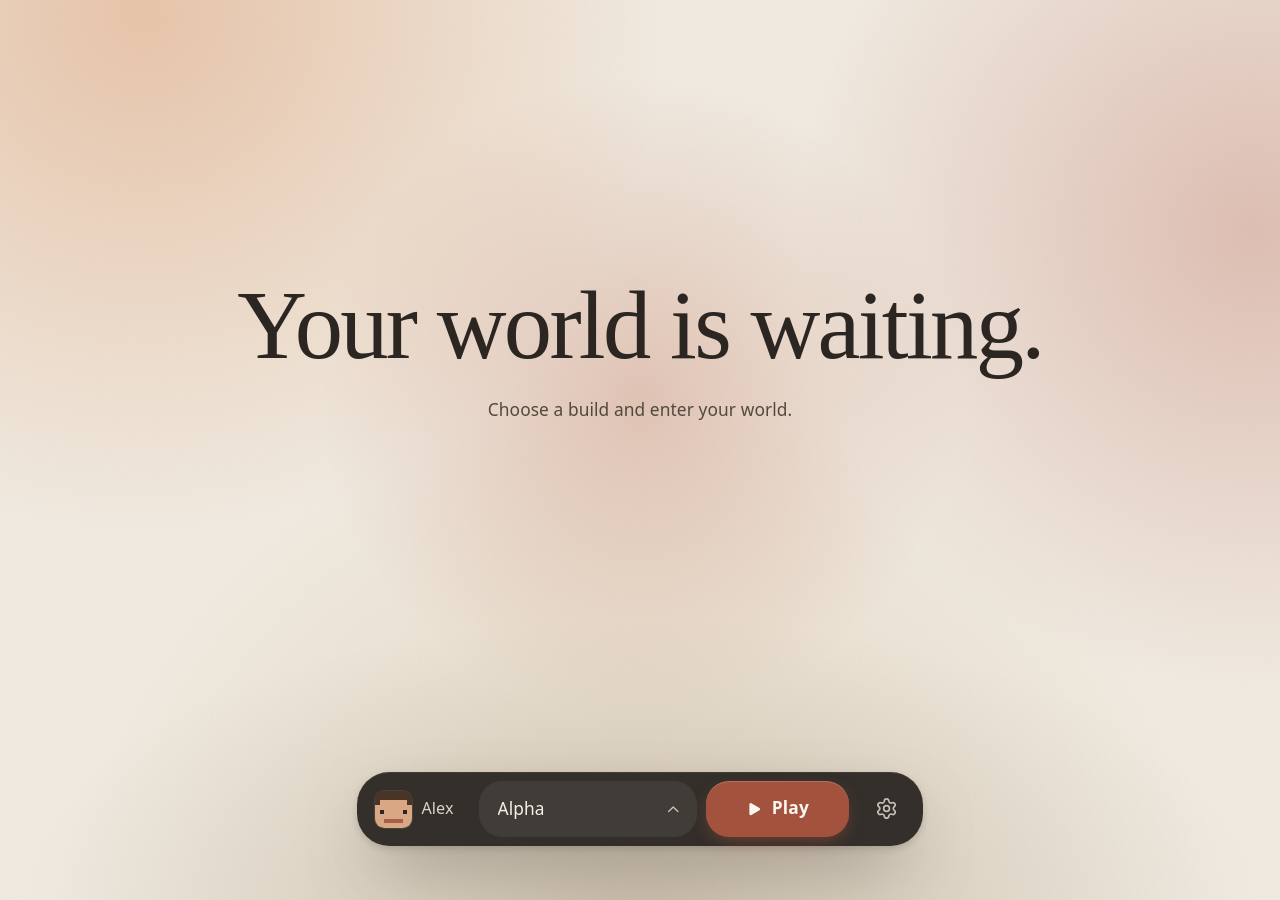
Test: Remove from Clade › asks first, names the profile, and says nothing is deleted; Cancel changes nothing
Step 1. Click the button with aria-label "Profile: " → (588, 809), box x1=479 y1=781 x2=697 y2=837
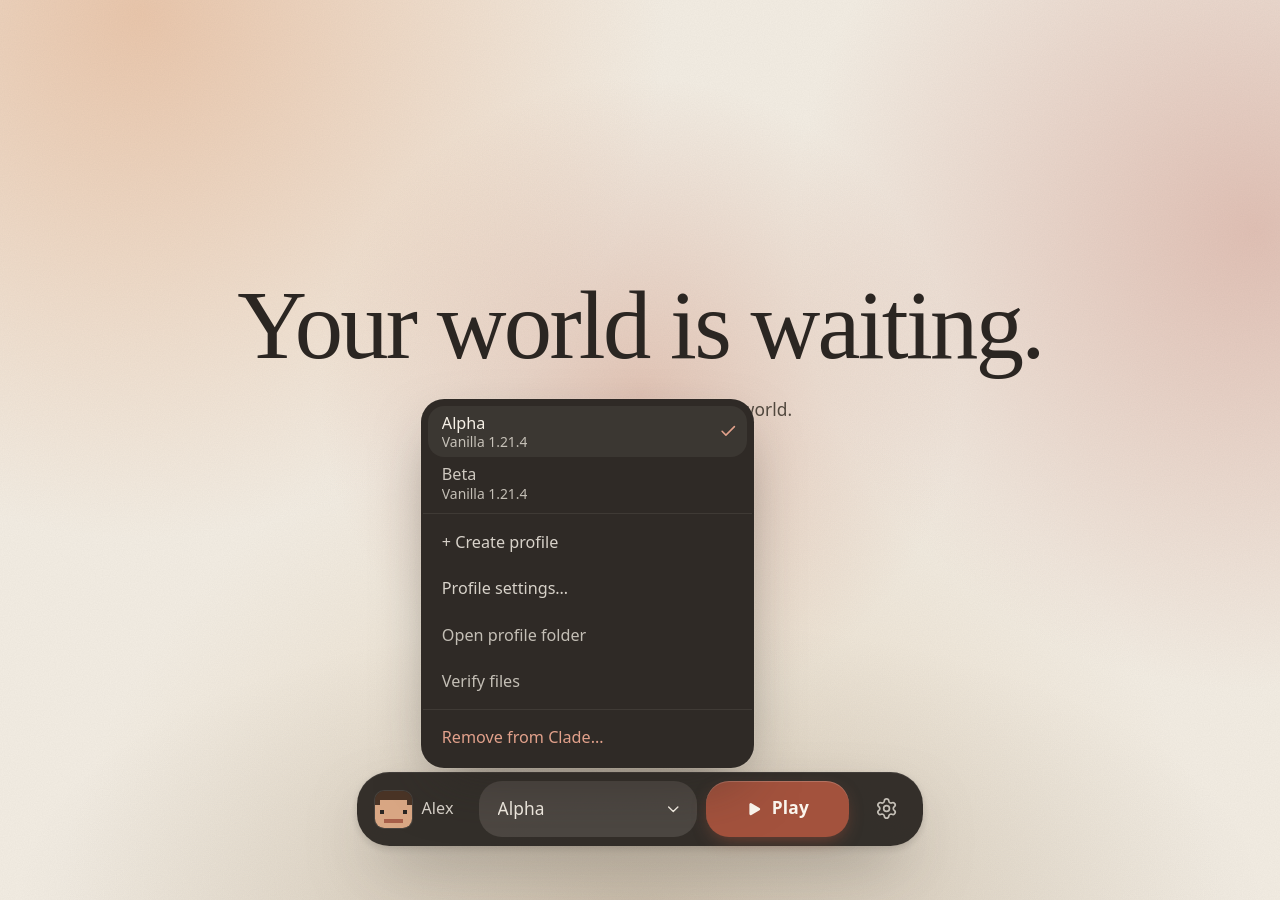
Step 2. Click the menu item "Remove from Clade…" → (523, 737), box x1=442 y1=726 x2=604 y2=748
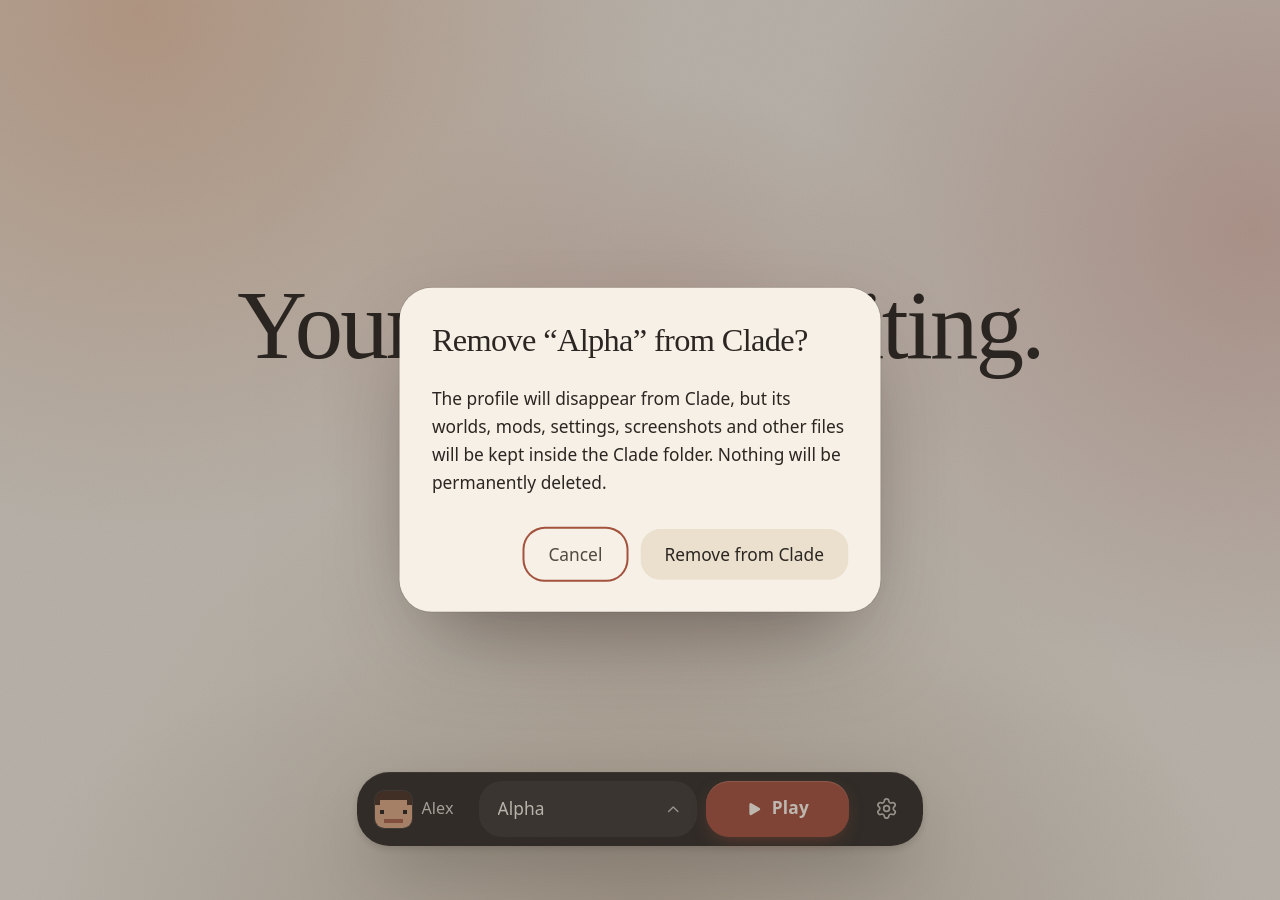
Result: the dialog shows "Remove “Alpha” from Clade?" at x1=432 y1=322 x2=808 y2=358
Result: the dialog shows "The profile will disappear from Clade, but its worlds, mods, settings, screenshots and other files will be kept inside the Clade folder. Nothing will be permane" at x1=432 y1=386 x2=844 y2=494
Step 3. Click the button "Cancel" → (575, 554), box x1=524 y1=529 x2=626 y2=580
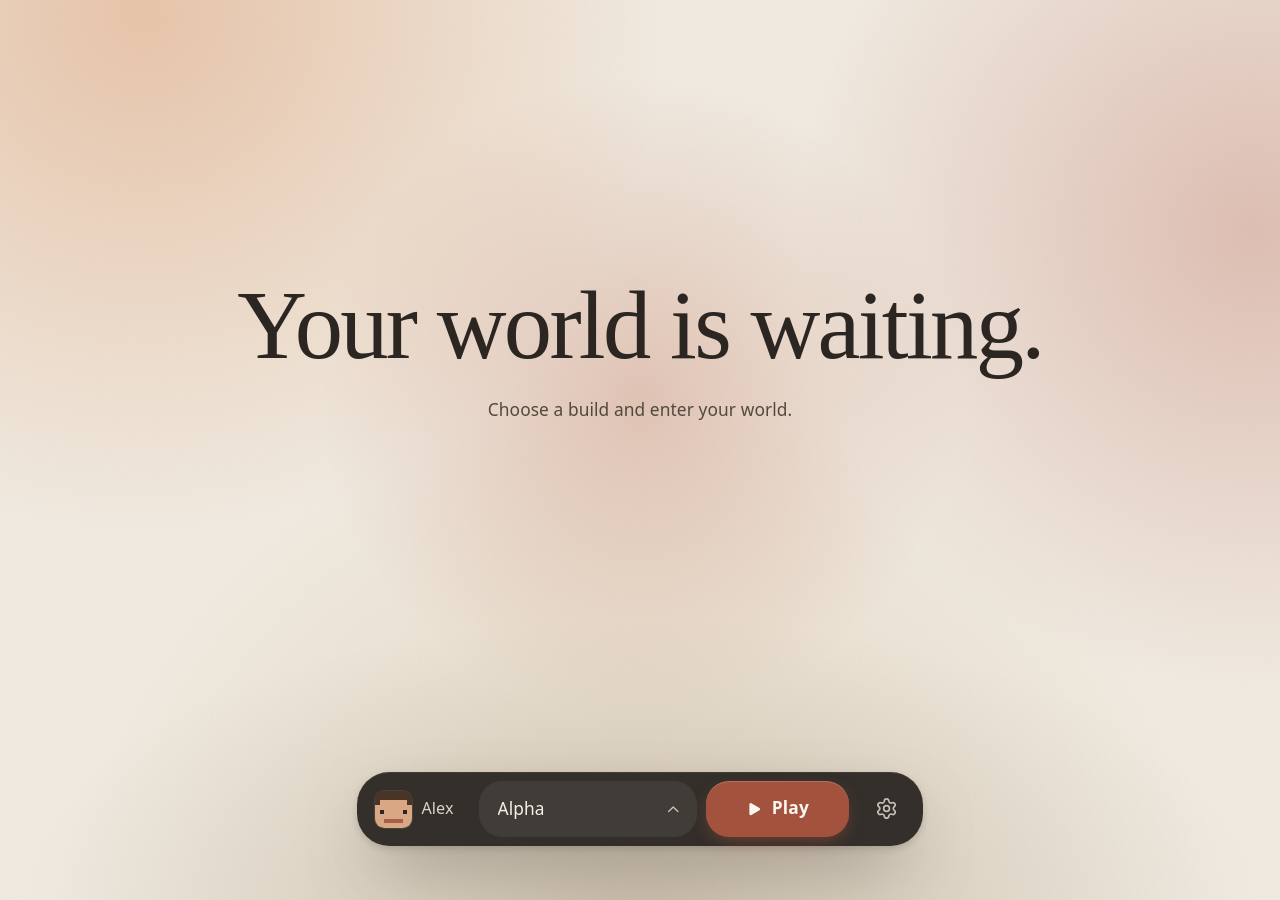
Expected: the button with aria-label "Profile: Alpha. Change profile" is shown, x1=479 y1=781 x2=697 y2=837
Result: the dialog is gone
